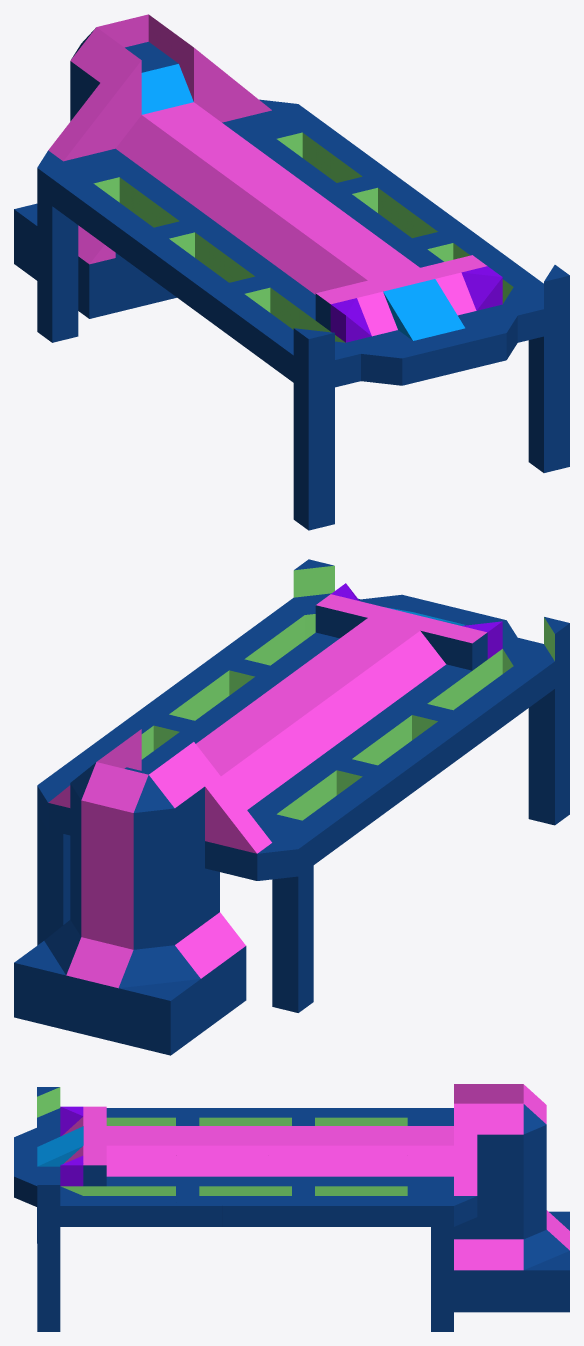
Rendered from Entryway.fbx.
3 views of the same model, one above another, from view 1: azimuth 30°, elevation 25°; view 2: azimuth 150°, elevation 25°; view 3: azimuth 270°, elevation 25° (orthographic). The views are drawn at different scales.
Parts seen in each view (by area): view 1: Entryway; view 2: Entryway; view 3: Entryway.
Boxes of the visible parts, <box> form: Entryway: <box>14,14,569,530</box>; Entryway: <box>14,559,569,1055</box>; Entryway: <box>14,1084,569,1331</box>.
Bounding box in the file's own units: 10 × 9 × 24.
